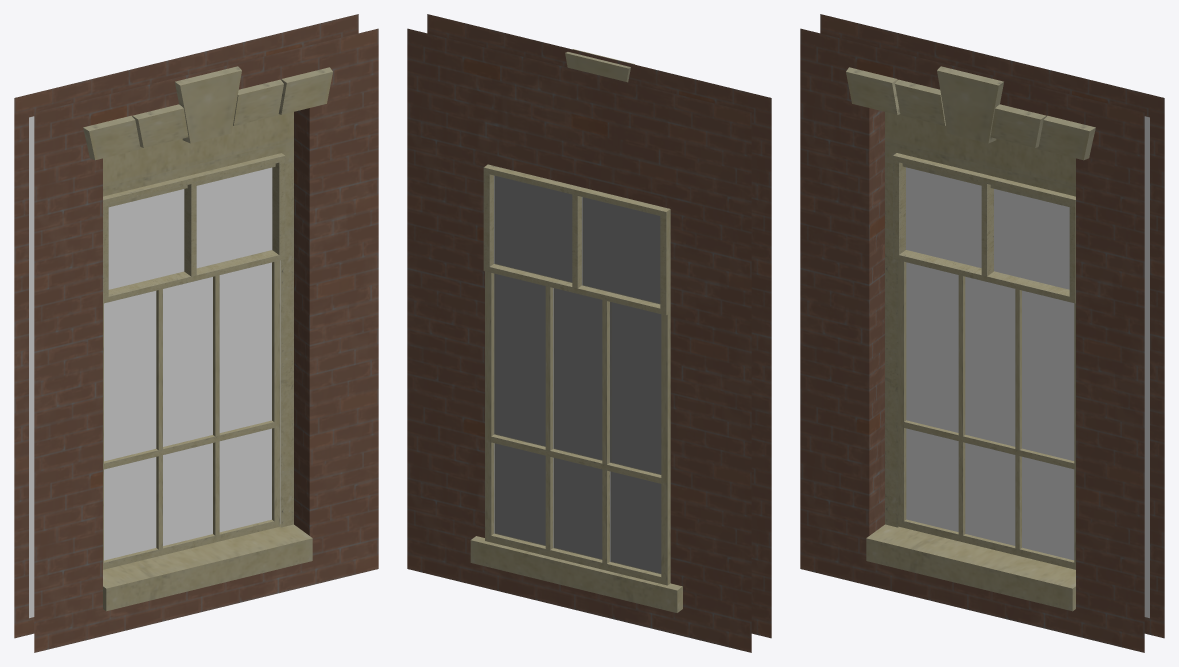
File: brick_window_trim.glb
The picture shows the model from 3 angles, left to right: view 1: azimuth 30°, elevation 25°; view 2: azimuth 150°, elevation 25°; view 3: azimuth 330°, elevation 25°; orthographic projection.
Visible parts, largest first — view 1: Brick_Window_Trim; view 2: Brick_Window_Trim; view 3: Brick_Window_Trim.
Boxes of the visible parts, x1=… form: Brick_Window_Trim: x1=14, y1=14, x2=378, y2=652; Brick_Window_Trim: x1=407, y1=14, x2=771, y2=652; Brick_Window_Trim: x1=800, y1=14, x2=1164, y2=652.
Bounding box in the file's own units: 2 × 3 × 0.304.
5 materials, 3 textured.
